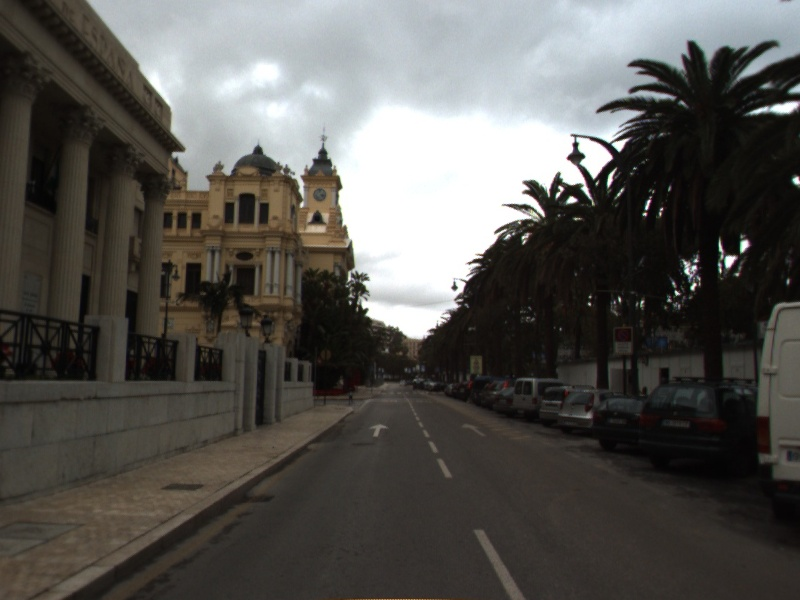STRAIGHT: (460, 421, 489, 439), (367, 421, 392, 439)
